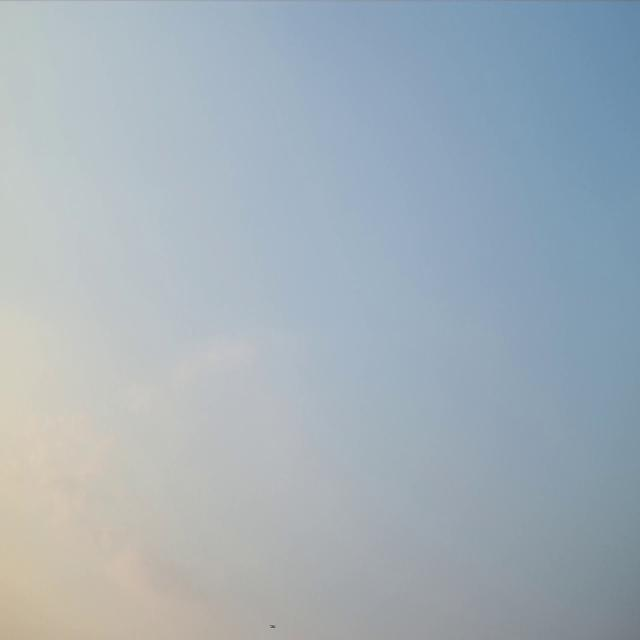UAV: (270, 623, 276, 628)
